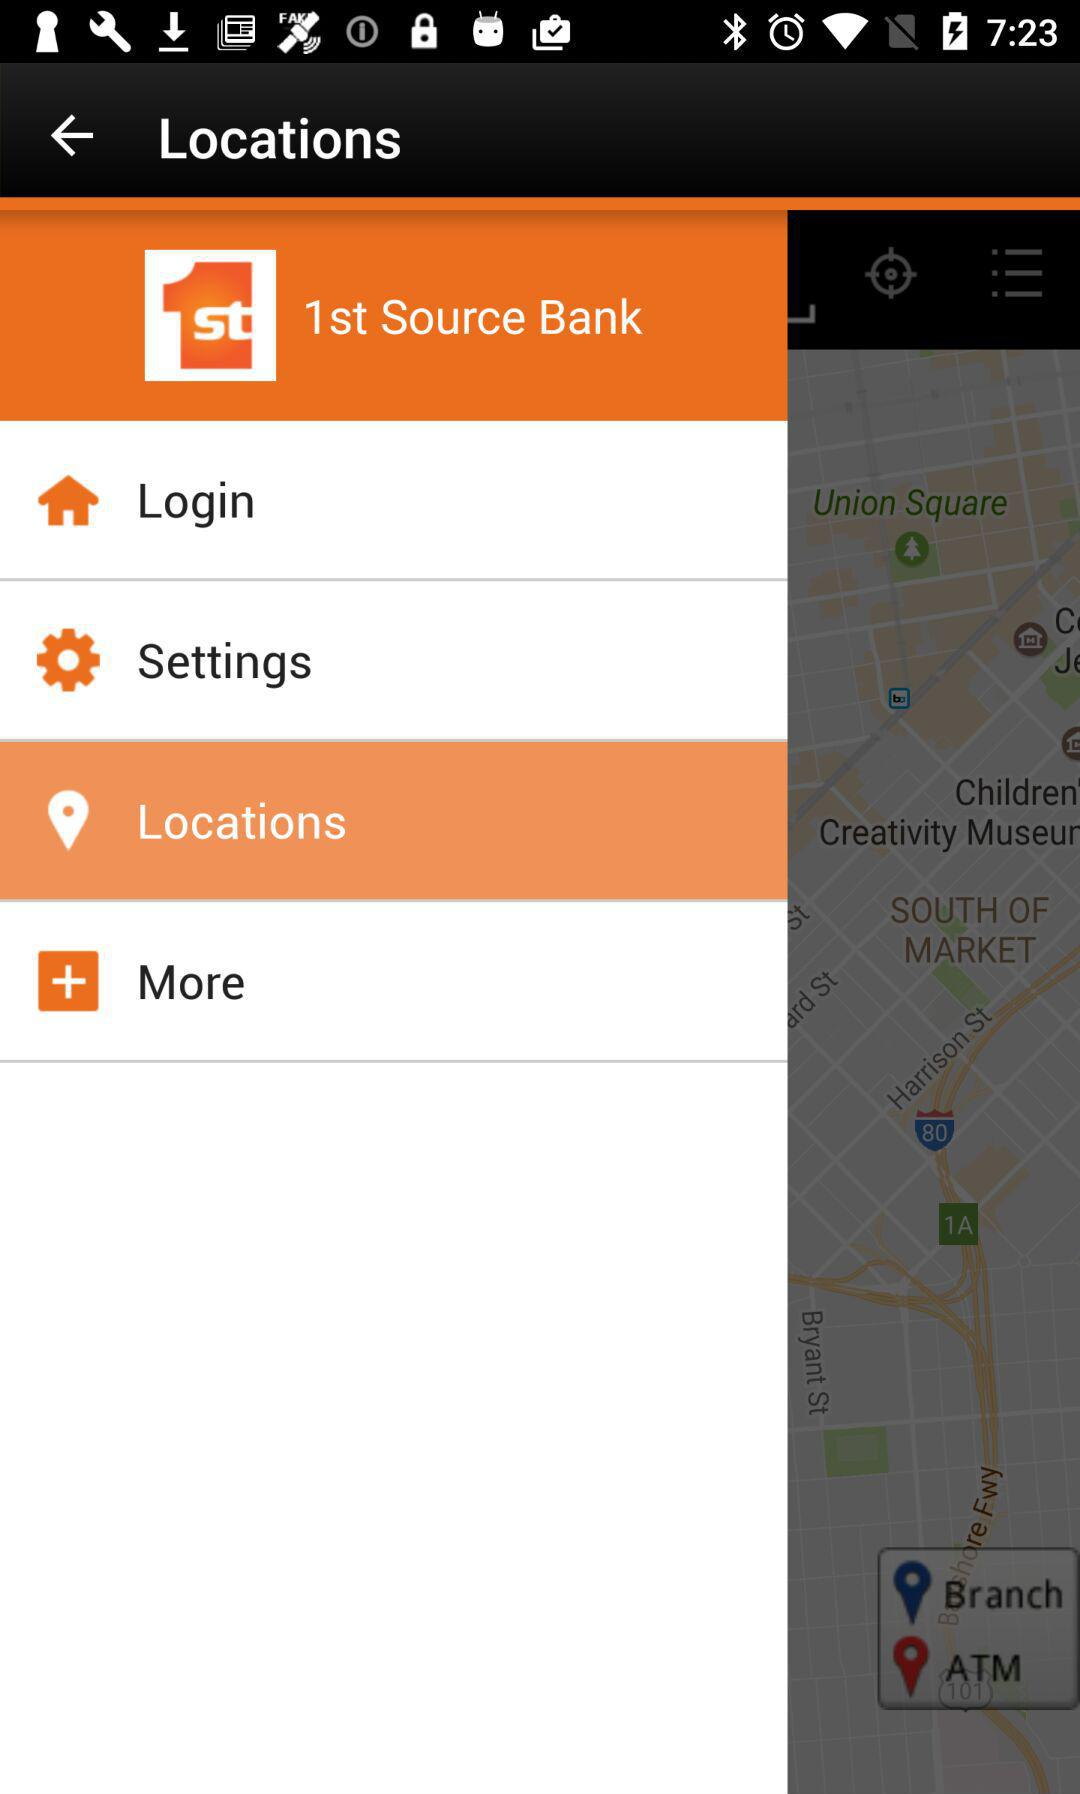Drawer: (1, 199, 787, 1794)
Icon: (36, 627, 102, 695), (38, 950, 101, 1014), (37, 475, 101, 529), (47, 789, 91, 853), (50, 113, 95, 160)
Image: (145, 250, 278, 382)
Text: (305, 297, 644, 337), (160, 117, 404, 163), (138, 639, 313, 691), (138, 800, 347, 842), (138, 479, 256, 531), (138, 964, 247, 1003)
Toolbar: (1, 67, 1080, 199)
UpperTaskBar: (1, 1, 1080, 64)
